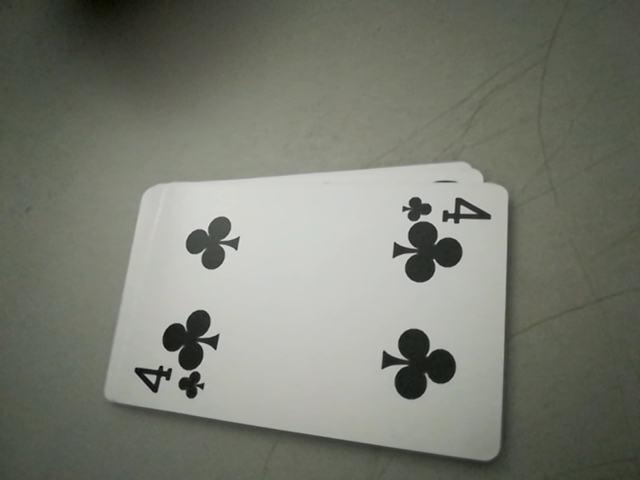mh 4: (400, 186, 498, 229), (124, 362, 209, 407)
